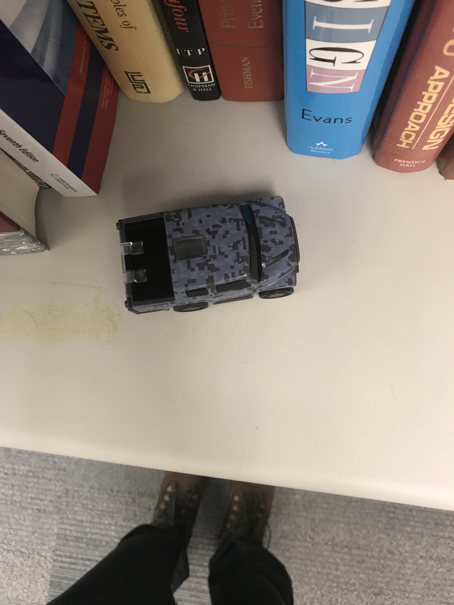MXT: (117, 194, 302, 313)
